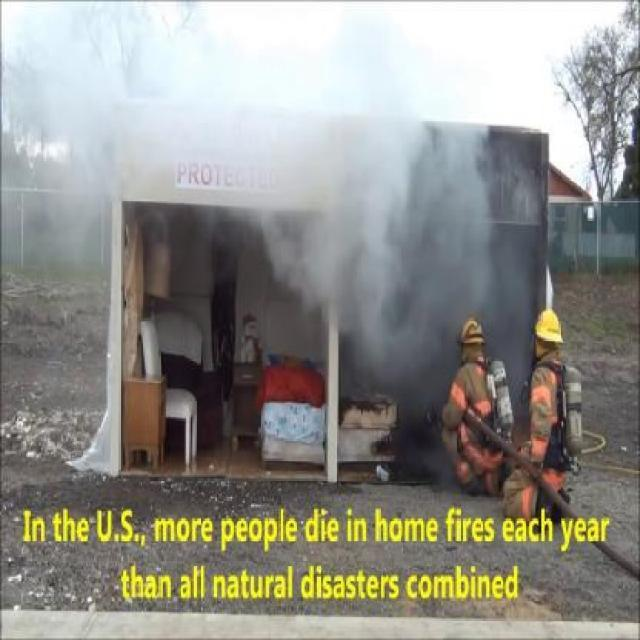smoke: (184, 48, 533, 398)
